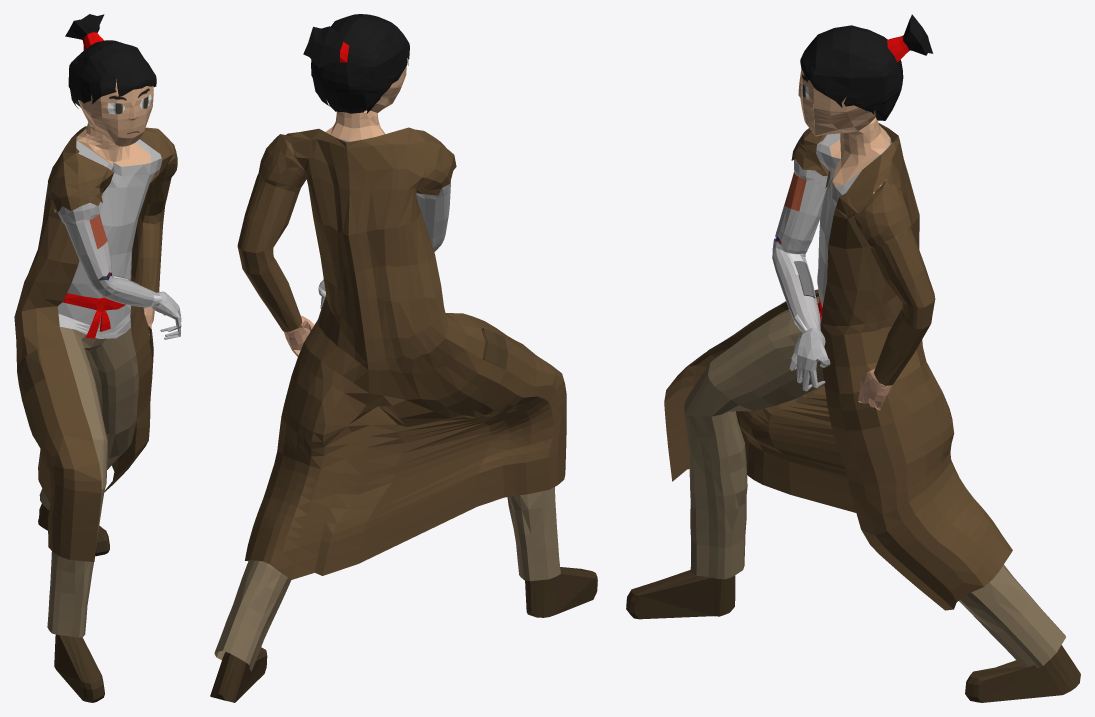
The model's file is One_RR_000008.obj.
3 renders of one model, left to right at view 1: azimuth 30°, elevation 25°; view 2: azimuth 150°, elevation 25°; view 3: azimuth 270°, elevation 25°, orthographic. The views are drawn at different scales.
Parts seen in each view (by area): view 1: Hair_Cube.004; view 2: Hair_Cube.004; view 3: Hair_Cube.004.
Boxes of the visible parts, x1,y1,x2,y2 form: Hair_Cube.004: [14, 14, 181, 702]; Hair_Cube.004: [210, 14, 597, 702]; Hair_Cube.004: [626, 14, 1080, 702].
Bounding box in the file's own units: 1.34 × 3.61 × 2.25.
